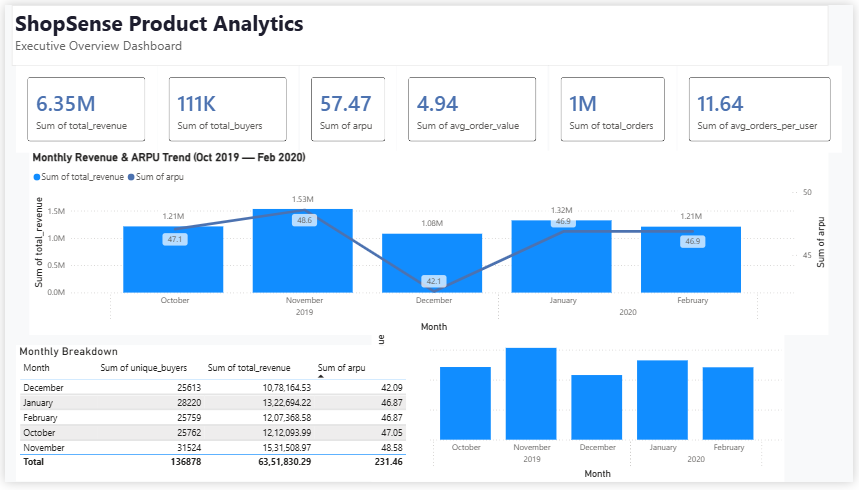

Layout of this report page (visuals, bound fields, positions):
{"tool":"powerbi","page":{"name":"Executive Overview","canvas":[1280,720],"ordinal":0},"visuals":[{"type":"textbox","box":[10,0,1233.3,91.7],"z":0},{"type":"cardVisual","title":"Total Revenue","fields":{"Data":["Sum(kpi_summary.total_revenue)"]},"box":[16.5,92.1,212.4,131.6],"z":1000},{"type":"cardVisual","fields":{"Data":["Sum(kpi_summary.total_buyers)"]},"box":[230.5,92.1,212.4,131.6],"z":2000},{"type":"cardVisual","fields":{"Data":["Sum(kpi_summary.total_orders)"]},"box":[821.8,92.1,192,131.6],"z":3000},{"type":"cardVisual","fields":{"Data":["Sum(kpi_summary.arpu)"]},"box":[444.6,92.1,146.1,131.6],"z":4000},{"type":"cardVisual","fields":{"Data":["Sum(kpi_summary.avg_order_value)"]},"box":[592.4,92.1,227.7,131.6],"z":5000},{"type":"cardVisual","fields":{"Data":["Sum(kpi_summary.avg_orders_per_user)"]},"box":[1015.5,92.1,248.1,131.6],"z":6000},{"type":"clusteredColumnChart","fields":{"Y":["Sum(monthly_revenue.total_revenue)"],"Category":["monthly_revenue.month.Variation.Date Hierarchy.Year","monthly_revenue.month.Variation.Date Hierarchy.Month"]},"box":[553.3,441.7,623.3,278.3],"z":7000},{"type":"lineStackedColumnComboChart","title":"Monthly Revenue & ARPU Trend (Oct 2019 — Feb 2020)","fields":{"Y":["Sum(monthly_revenue.total_revenue)"],"Y2":["Sum(monthly_revenue.arpu)"],"Category":["monthly_revenue.month.Variation.Date Hierarchy.Year","monthly_revenue.month.Variation.Date Hierarchy.Month"]},"box":[36.7,220,1206.7,278.3],"z":8000},{"type":"tableEx","title":"Monthly Breakdown","fields":{"Values":["monthly_revenue.month.Variation.Date Hierarchy.Month","Sum(monthly_revenue.unique_buyers)","Sum(monthly_revenue.total_revenue)","Sum(monthly_revenue.arpu)"]},"box":[16,514,624,206],"z":9000}]}

Visuals, with their boxes in screenshot pixels (x1, y1, x2, y2), scaled from the page's 1280x720 canvas onto the 859x490 screenshot:
textbox: 7:0:834:62
"Total Revenue" cardVisual: 11:63:154:152
cardVisual - Sum(kpi_summary.total_buyers): 155:63:297:152
cardVisual - Sum(kpi_summary.total_orders): 552:63:680:152
cardVisual - Sum(kpi_summary.arpu): 298:63:396:152
cardVisual - Sum(kpi_summary.avg_order_value): 398:63:550:152
cardVisual - Sum(kpi_summary.avg_orders_per_user): 681:63:848:152
clusteredColumnChart - Sum(monthly_revenue.total_revenue) x monthly_revenue.month.Variation.Date Hierarchy.Year: 371:301:790:489
"Monthly Revenue & ARPU Trend (Oct 2019 — Feb 2020)" lineStackedColumnComboChart: 25:150:834:339
"Monthly Breakdown" tableEx: 11:350:430:489
